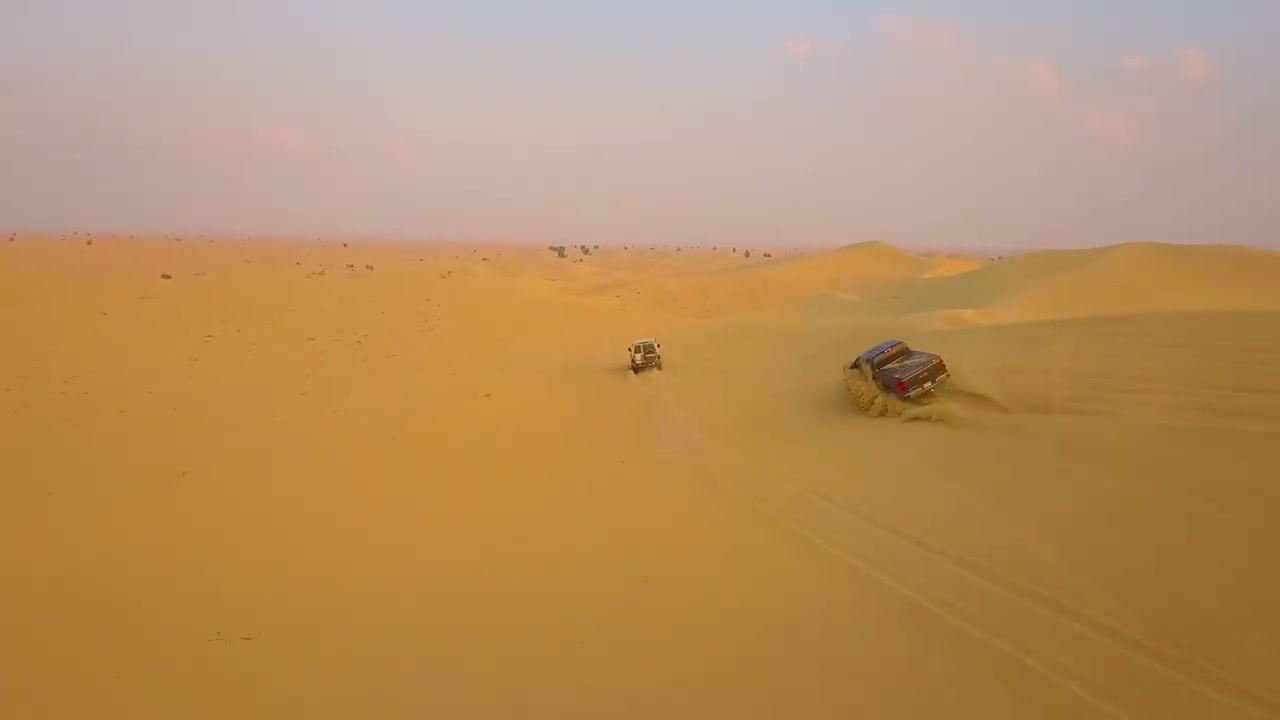vehicle_track: (700, 446, 1279, 717)
